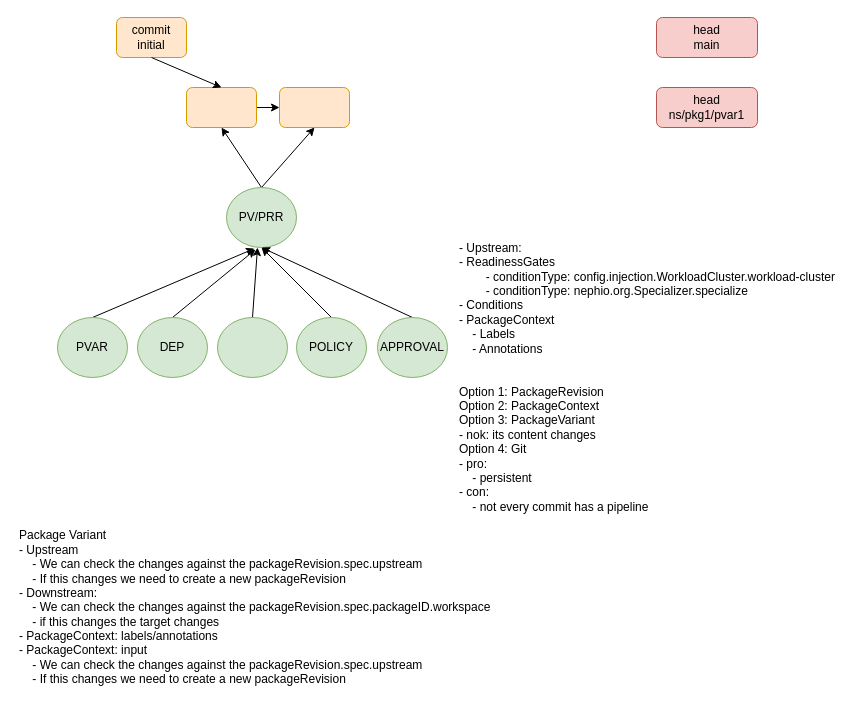
The diagram is 854 pixels wide and 725 high, and some of its shapes have lost their labels. Here are the shapes that lost their labels. From the top down, the box of each, then its label:
(186, 86, 256, 128): commit clone
(278, 86, 350, 128): commit
(216, 316, 288, 378): PIPELINE
